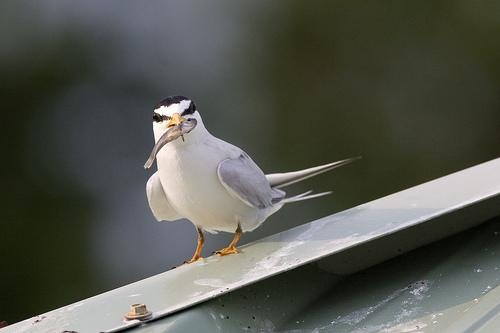bird: (139, 93, 366, 264)
